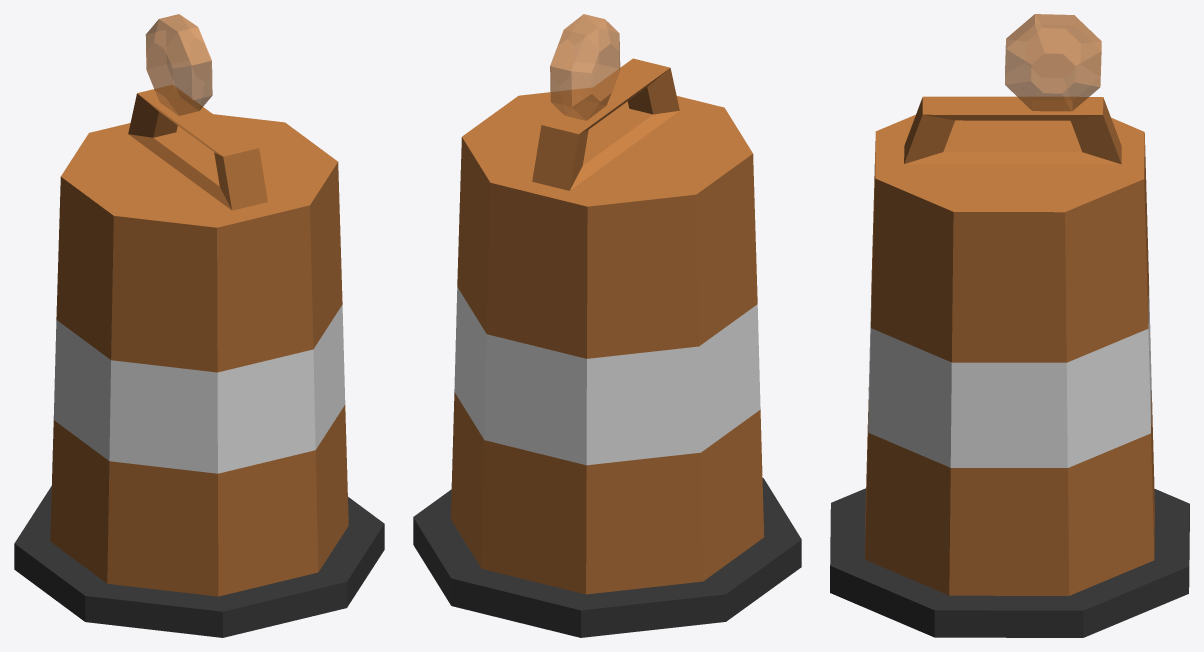
Rendered from RoadBlock.fbx.
The picture shows the model from 3 angles, left to right: view 1: azimuth 30°, elevation 25°; view 2: azimuth 150°, elevation 25°; view 3: azimuth 270°, elevation 25°; orthographic projection. The views are drawn at different scales.
Visible parts, largest first — view 1: Circle; view 2: Circle; view 3: Circle.
Part boxes in pixels (x1,y1,x2,y2): Circle: (14, 14, 384, 637); Circle: (413, 14, 801, 637); Circle: (830, 14, 1189, 637).
Bounding box in the file's own units: 225 × 374 × 225.
